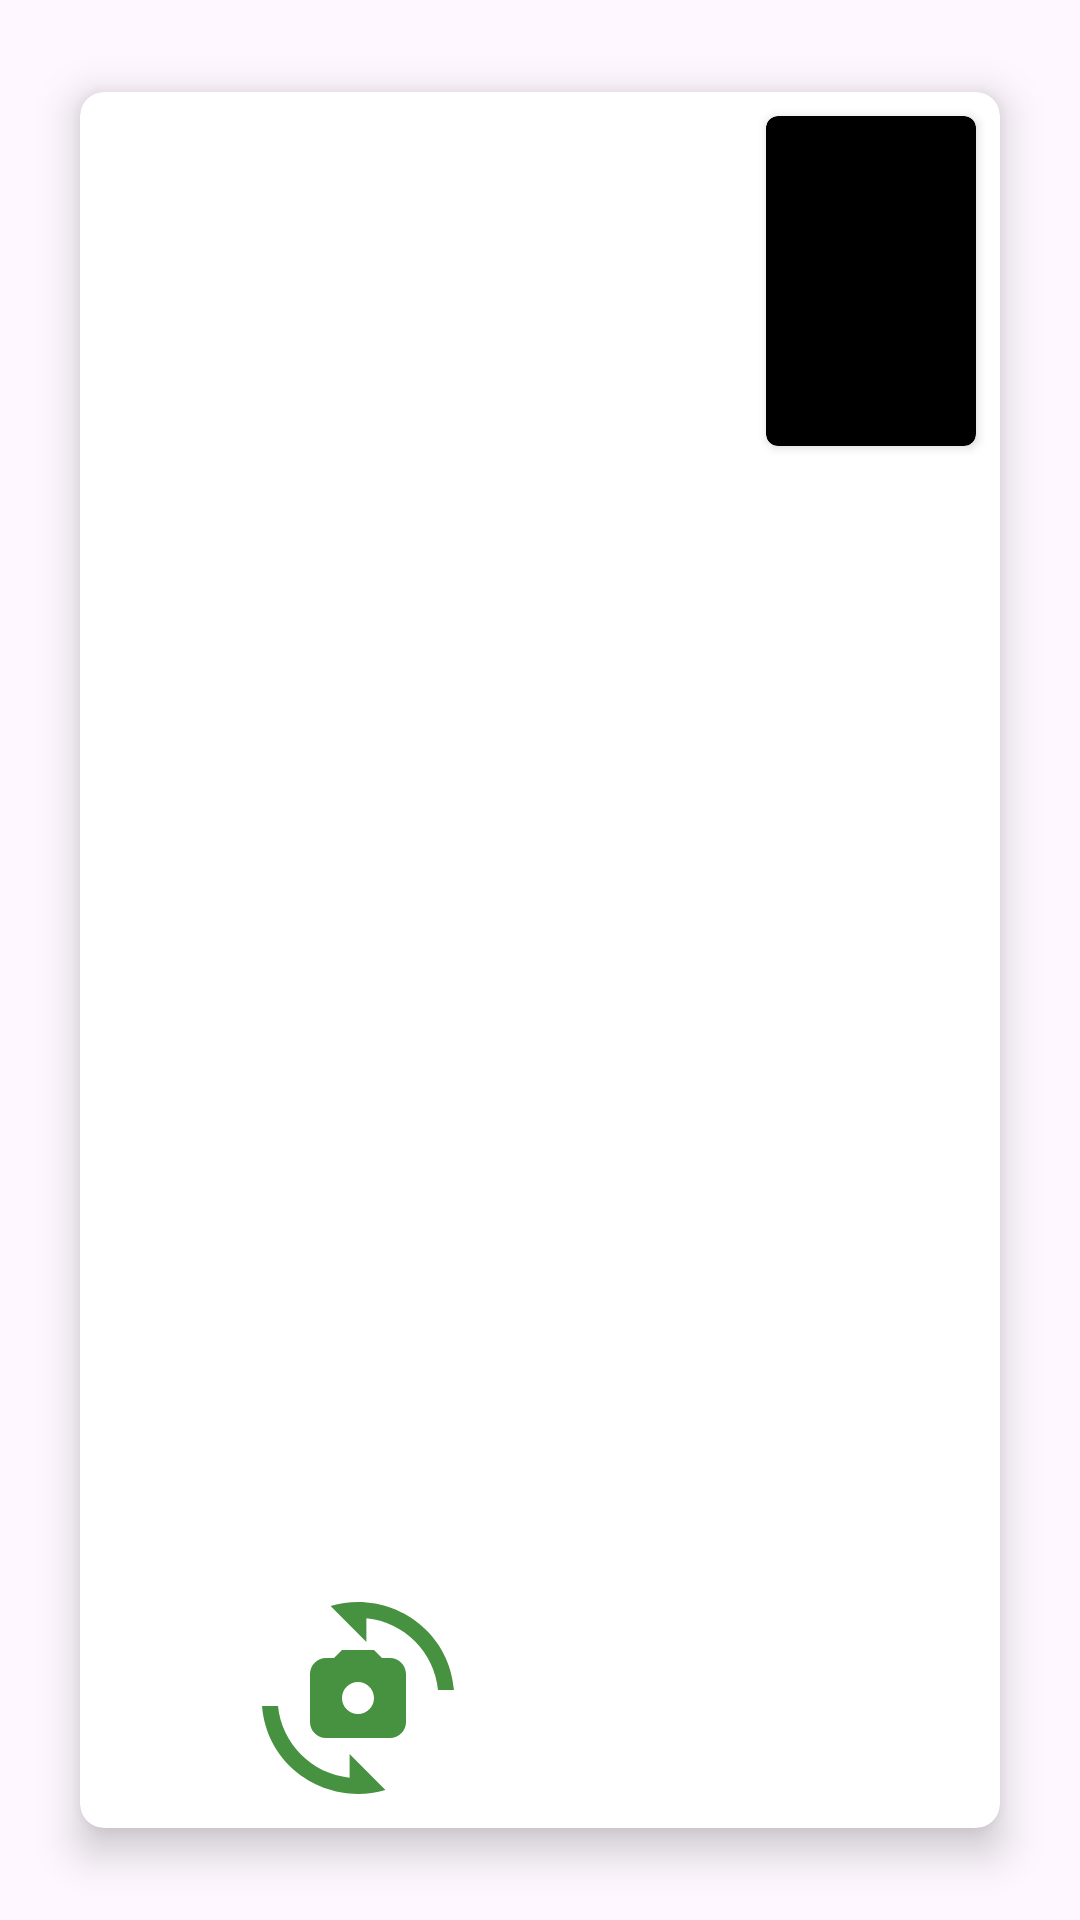

Locate icon controls on the screen. Image size 1080 × 1920, boxes as (x1, y1, x2, y2).
cameraswitch: (262, 1602, 454, 1794)
